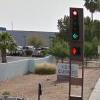Traffic light: (60, 2, 90, 73)
